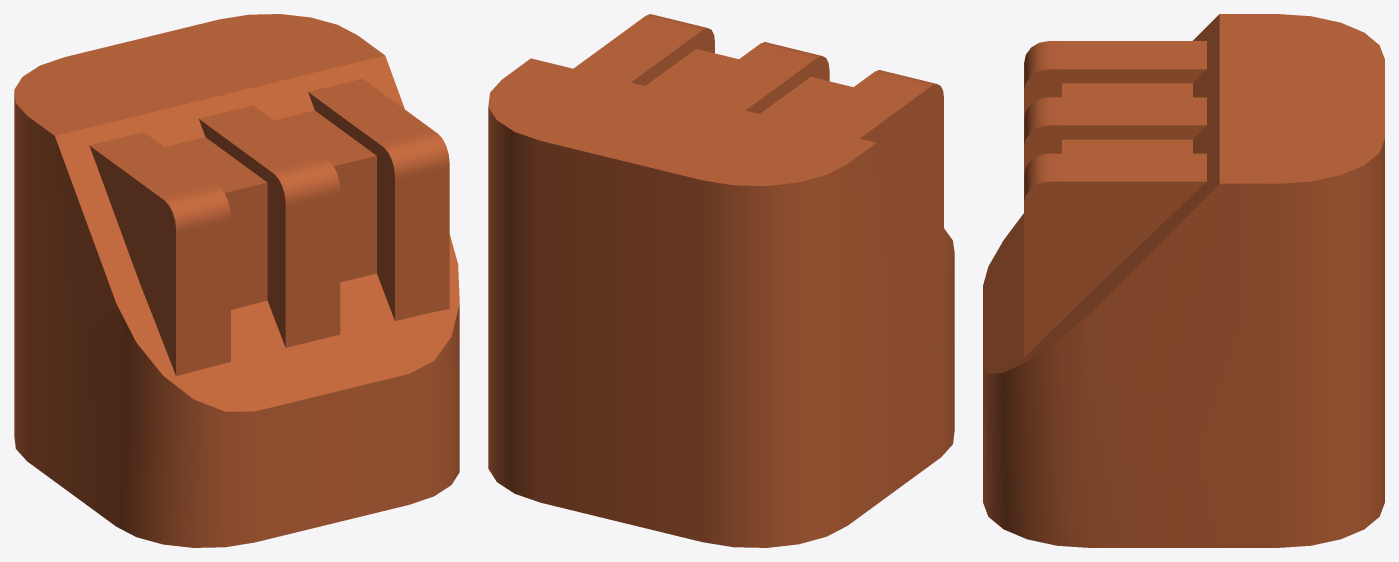
Rendered from AmmoBox.fbx.
3 renders of one model, left to right at view 1: azimuth 30°, elevation 25°; view 2: azimuth 150°, elevation 25°; view 3: azimuth 270°, elevation 25°, orthographic. The views are drawn at different scales.
Parts seen in each view (by area): view 1: Cube; view 2: Cube; view 3: Cube.
Part boxes in pixels (x1,y1,x2,y2): Cube: (14,14,459,547); Cube: (488,14,954,547); Cube: (983,14,1384,547).
Size of the model in its own units: 0.7915 by 0.7915 by 0.7915.
